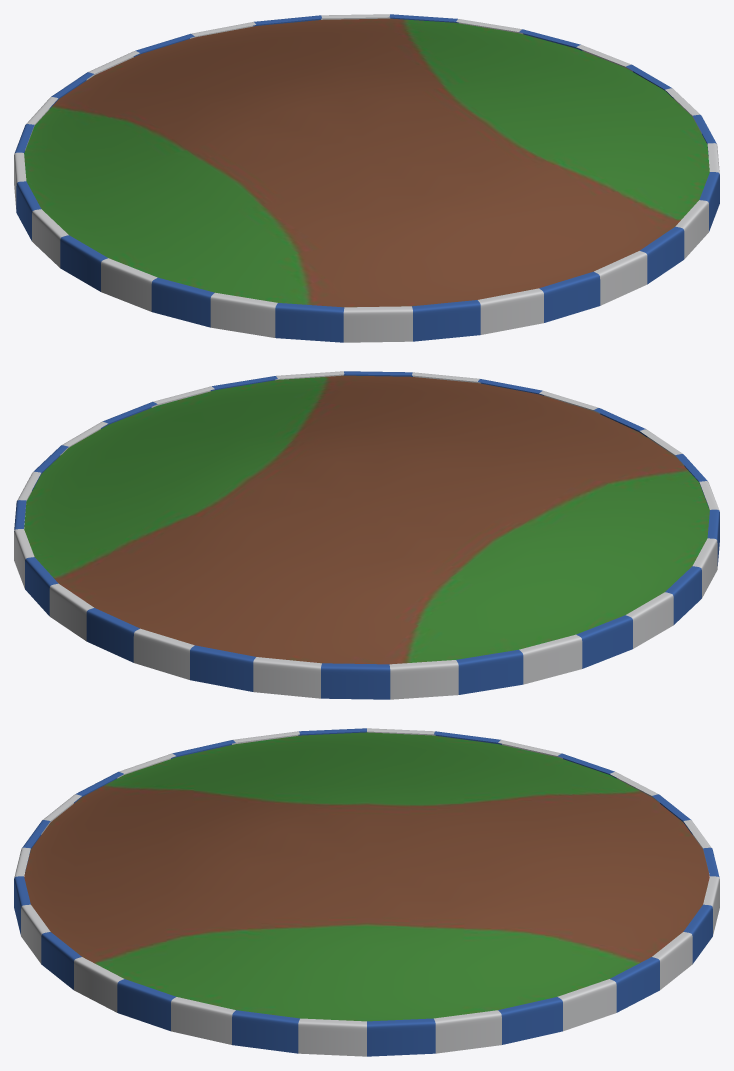
File: RoundAboutFinal.fbx
The picture shows the model from 3 angles, top to bottom: view 1: azimuth 30°, elevation 25°; view 2: azimuth 150°, elevation 25°; view 3: azimuth 270°, elevation 25°; orthographic projection.
Visible parts, largest first — view 1: polySurface1, polySurface2; view 2: polySurface1, polySurface2; view 3: polySurface1, polySurface2.
Part boxes in pixels (box(x1,y1,x2,y2)): polySurface1: box(24, 18, 709, 307); polySurface2: box(14, 14, 719, 342); polySurface1: box(24, 375, 709, 664); polySurface2: box(14, 371, 719, 699); polySurface1: box(24, 732, 709, 1021); polySurface2: box(14, 728, 719, 1056).
Size of the model in its own units: 20.83 by 1.4 by 20.83.
